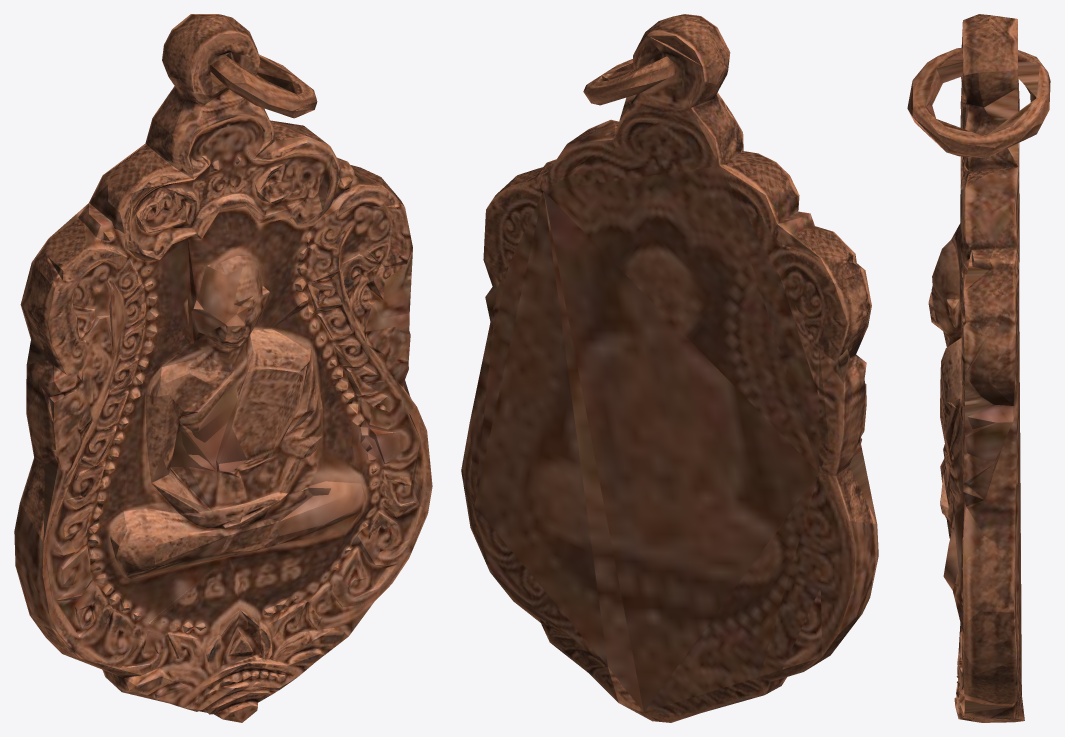
File: e4rian.glb
3 views of the same model, side by side, from view 1: azimuth 30°, elevation 25°; view 2: azimuth 150°, elevation 25°; view 3: azimuth 270°, elevation 25° (orthographic).
Visible parts, largest first — view 1: e4rian_near, e4rian_far; view 2: e4rian_near, e4rian_far; view 3: e4rian_near, e4rian_far.
Boxes of the visible parts, bbox=[...] form: e4rian_near: bbox=[14, 14, 432, 722]; e4rian_far: bbox=[14, 46, 426, 712]; e4rian_near: bbox=[461, 14, 878, 722]; e4rian_far: bbox=[489, 36, 876, 669]; e4rian_near: bbox=[907, 14, 1050, 722]; e4rian_far: bbox=[924, 55, 1039, 718].
Size of the model in its own units: 0.0297 by 0.05 by 0.00931.
Materials: 2 (2 with a texture image).
